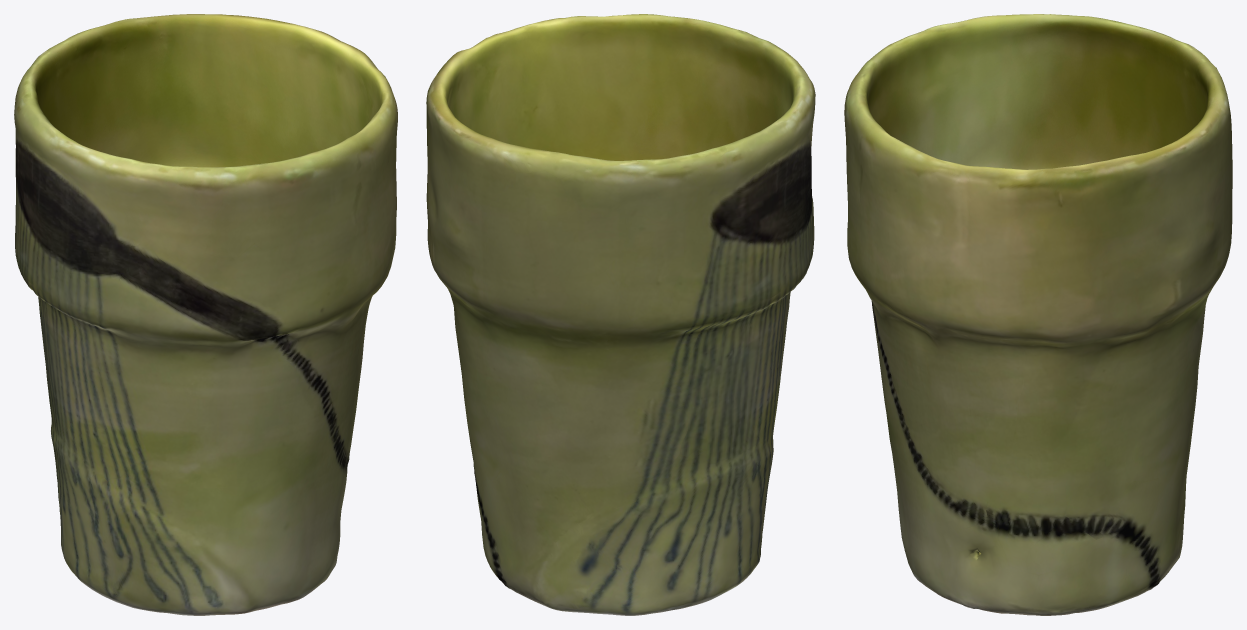
3 renders of one model, left to right at view 1: azimuth 30°, elevation 25°; view 2: azimuth 150°, elevation 25°; view 3: azimuth 270°, elevation 25°, orthographic.
Size of the model in its own units: 0.0733 by 0.1001 by 0.0737.
Materials: 1 (1 with a texture image).
